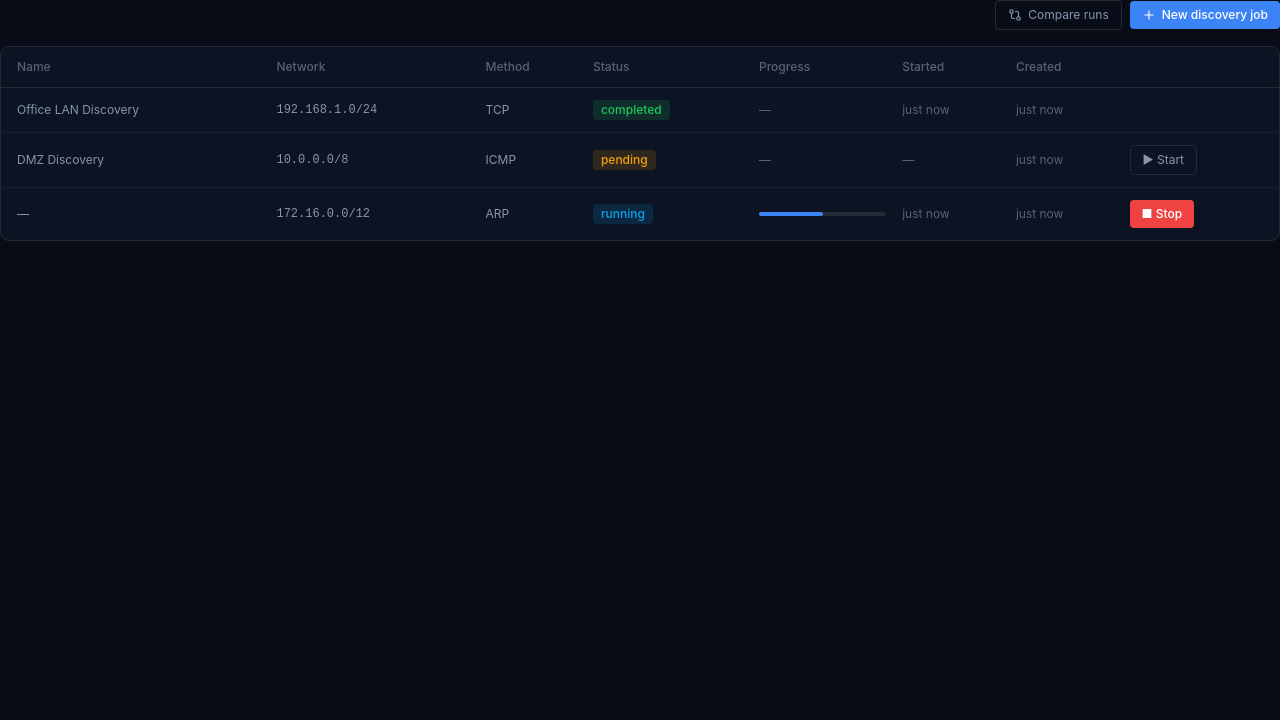
DiscoveryPage › opens the detail panel when a row is clicked
Click the row that starts with "Office LAN Discovery": (640, 110) [1,88,1279,132]
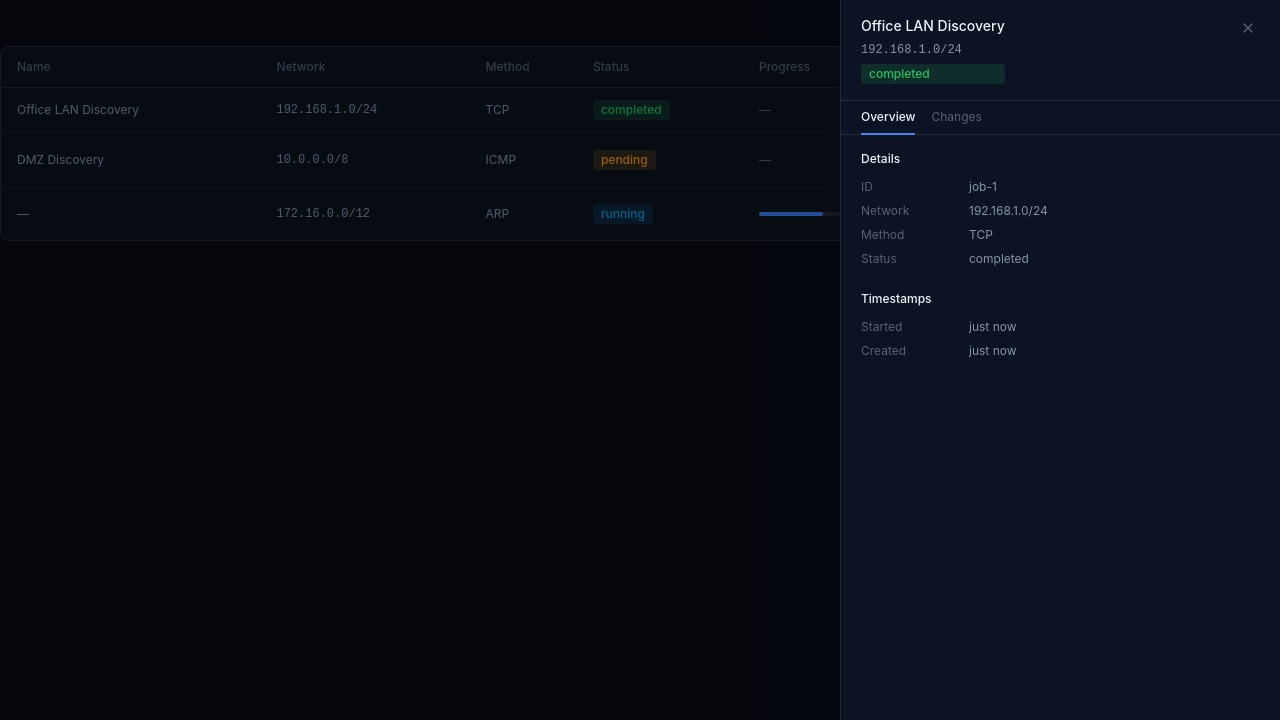
Check: the dialog named "discovery job details" is shown, box [840,0,1279,719]
